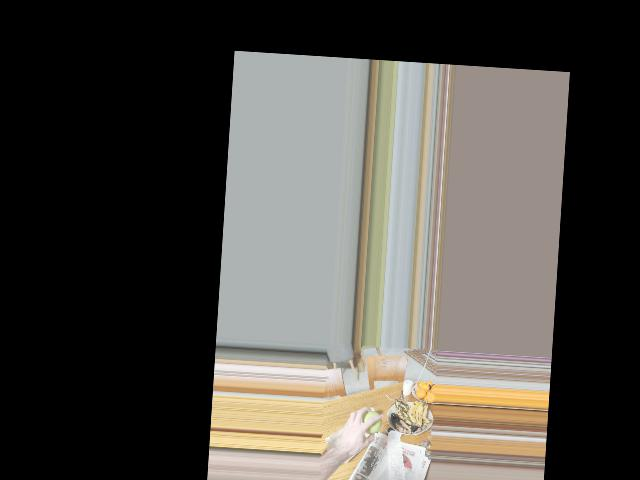apple: (357, 410, 382, 436)
